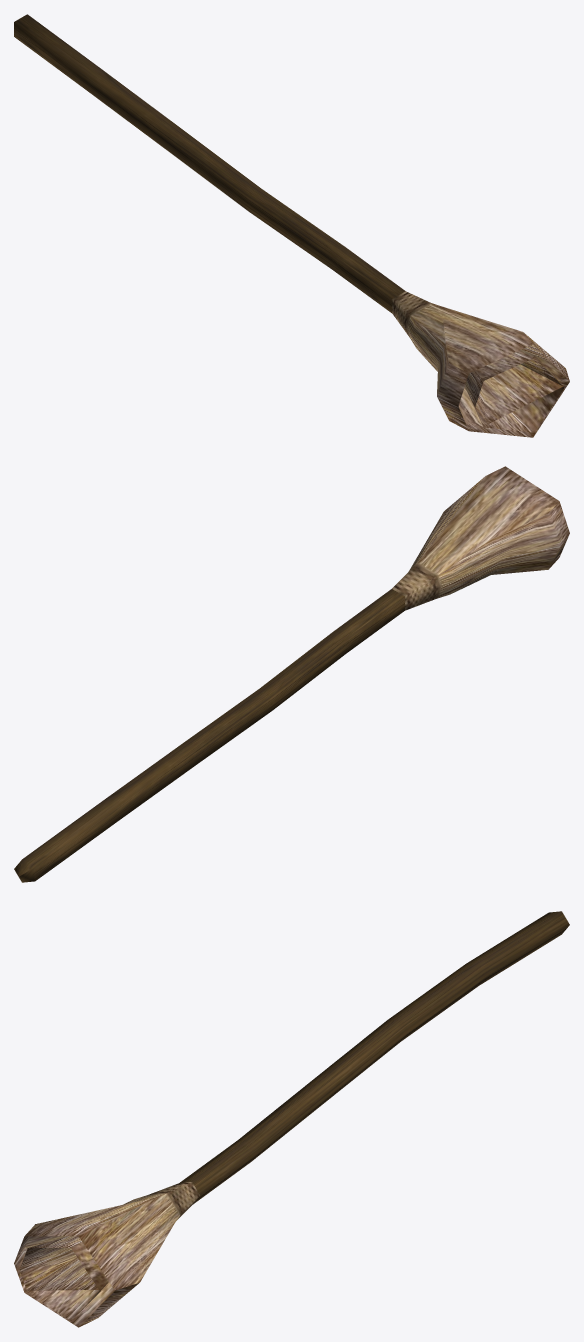
The model's file is broom_high.fbx.
3 renders of one model, top to bottom at view 1: azimuth 30°, elevation 25°; view 2: azimuth 150°, elevation 25°; view 3: azimuth 330°, elevation 25°, orthographic. The views are drawn at different scales.
Visible parts, largest first — view 1: broom_handle, straw, straw1; view 2: broom_handle; view 3: broom_handle, straw, straw1.
Boxes of the visible parts, x1,y1,x2,y2 form: broom_handle: (14, 14, 569, 437); straw: (464, 351, 564, 432); straw1: (476, 364, 563, 424); broom_handle: (14, 466, 569, 882); broom_handle: (14, 911, 569, 1327); straw: (19, 1236, 108, 1320); straw1: (25, 1257, 108, 1290).
Bounding box in the file's own units: 67.84 × 48.84 × 484.
Materials: 2 (2 with a texture image).
